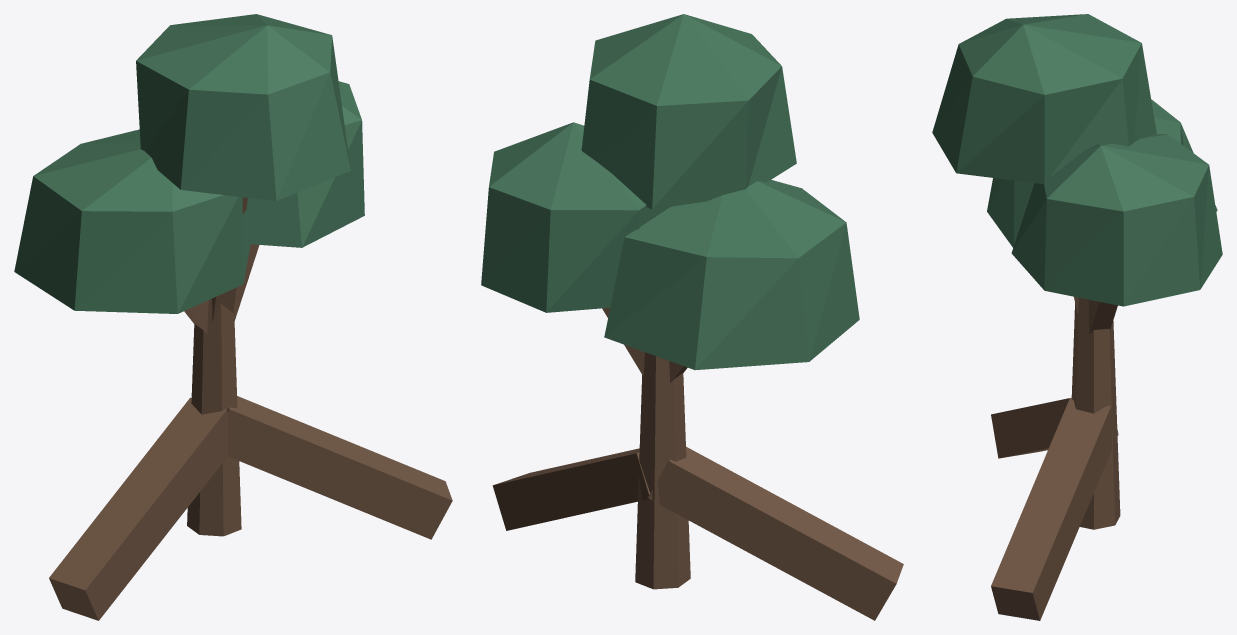
The model's file is Pocket_Briarwood.glb.
3 views of the same model, side by side, from view 1: azimuth 30°, elevation 25°; view 2: azimuth 150°, elevation 25°; view 3: azimuth 270°, elevation 25° (orthographic). The views are drawn at different scales.
Parts seen in each view (by area): view 1: Pocket_Briarwood_Laurel leaves_0_4, Pocket_Briarwood_Warm timber_0_4; view 2: Pocket_Briarwood_Laurel leaves_0_4, Pocket_Briarwood_Warm timber_0_4; view 3: Pocket_Briarwood_Laurel leaves_0_4, Pocket_Briarwood_Warm timber_0_4.
Boxes of the visible parts, bbox=[...] form: Pocket_Briarwood_Laurel leaves_0_4: bbox=[14, 14, 364, 313]; Pocket_Briarwood_Warm timber_0_4: bbox=[49, 197, 452, 620]; Pocket_Briarwood_Laurel leaves_0_4: bbox=[481, 14, 859, 370]; Pocket_Briarwood_Warm timber_0_4: bbox=[492, 307, 903, 620]; Pocket_Briarwood_Laurel leaves_0_4: bbox=[932, 14, 1222, 306]; Pocket_Briarwood_Warm timber_0_4: bbox=[991, 296, 1120, 620].
Bounding box in the file's own units: 39.16 × 51.1 × 25.93.
